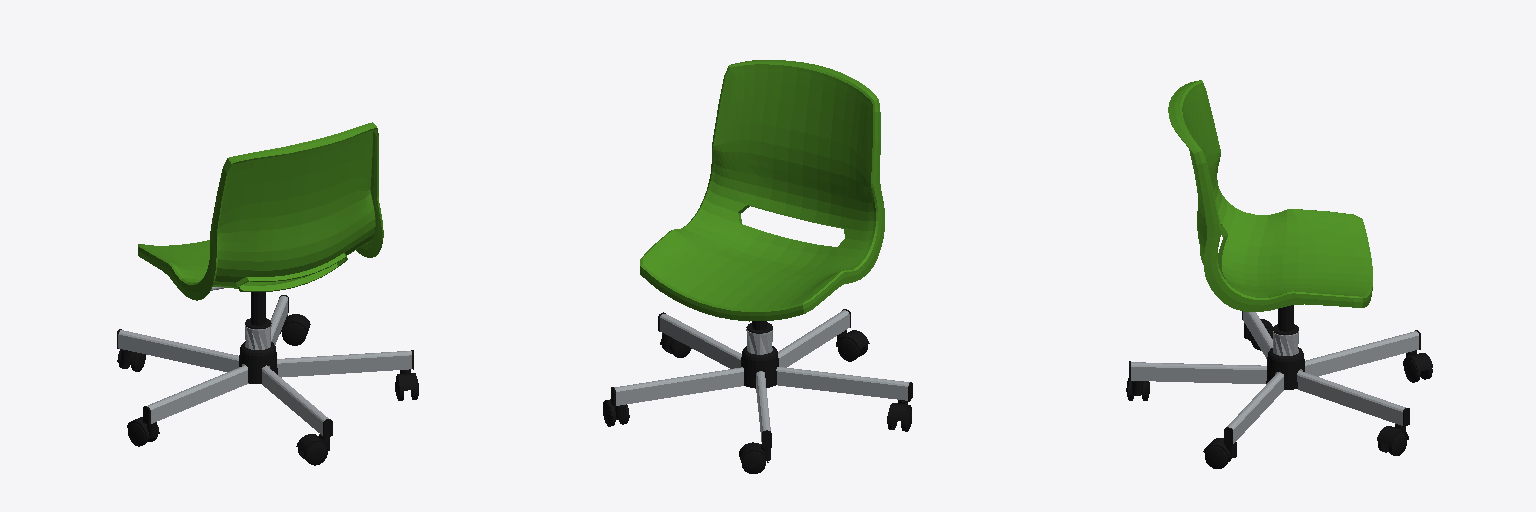
The picture shows the model from 3 angles: view 1: azimuth 30°, elevation 25°; view 2: azimuth 150°, elevation 25°; view 3: azimuth 270°, elevation 25°; orthographic projection.
Visible parts, largest first — view 1: Mesh2 Group2 SNILLE_IKEA1 Model, Mesh8 Group6 SNILLE_IKEA1 Model, Mesh1 Group1 SNILLE_IKEA1 Model, Mesh3 Group3 SNILLE_IKEA1 Model, Mesh7 Group5 SNILLE_IKEA1 Model; view 2: Mesh2 Group2 SNILLE_IKEA1 Model, Mesh8 Group6 SNILLE_IKEA1 Model, Mesh1 Group1 SNILLE_IKEA1 Model, Mesh7 Group5 SNILLE_IKEA1 Model; view 3: Mesh2 Group2 SNILLE_IKEA1 Model, Mesh8 Group6 SNILLE_IKEA1 Model, Mesh1 Group1 SNILLE_IKEA1 Model, Mesh7 Group5 SNILLE_IKEA1 Model, Mesh3 Group3 SNILLE_IKEA1 Model.
Part boxes in pixels (x1,y1,x2,y2): Mesh2 Group2 SNILLE_IKEA1 Model: (138, 122, 383, 300); Mesh8 Group6 SNILLE_IKEA1 Model: (117, 295, 413, 437); Mesh1 Group1 SNILLE_IKEA1 Model: (239, 341, 277, 383); Mesh3 Group3 SNILLE_IKEA1 Model: (245, 292, 271, 328); Mesh7 Group5 SNILLE_IKEA1 Model: (245, 324, 271, 349); Mesh2 Group2 SNILLE_IKEA1 Model: (640, 60, 884, 321); Mesh8 Group6 SNILLE_IKEA1 Model: (611, 309, 912, 447); Mesh1 Group1 SNILLE_IKEA1 Model: (741, 346, 778, 388); Mesh7 Group5 SNILLE_IKEA1 Model: (746, 329, 772, 354); Mesh2 Group2 SNILLE_IKEA1 Model: (1168, 80, 1372, 311); Mesh8 Group6 SNILLE_IKEA1 Model: (1129, 311, 1420, 445); Mesh1 Group1 SNILLE_IKEA1 Model: (1266, 347, 1304, 389); Mesh7 Group5 SNILLE_IKEA1 Model: (1273, 331, 1298, 355); Mesh3 Group3 SNILLE_IKEA1 Model: (1273, 305, 1298, 334).
Bounding box in the file's own units: 0.5925 × 0.6404 × 0.5915.